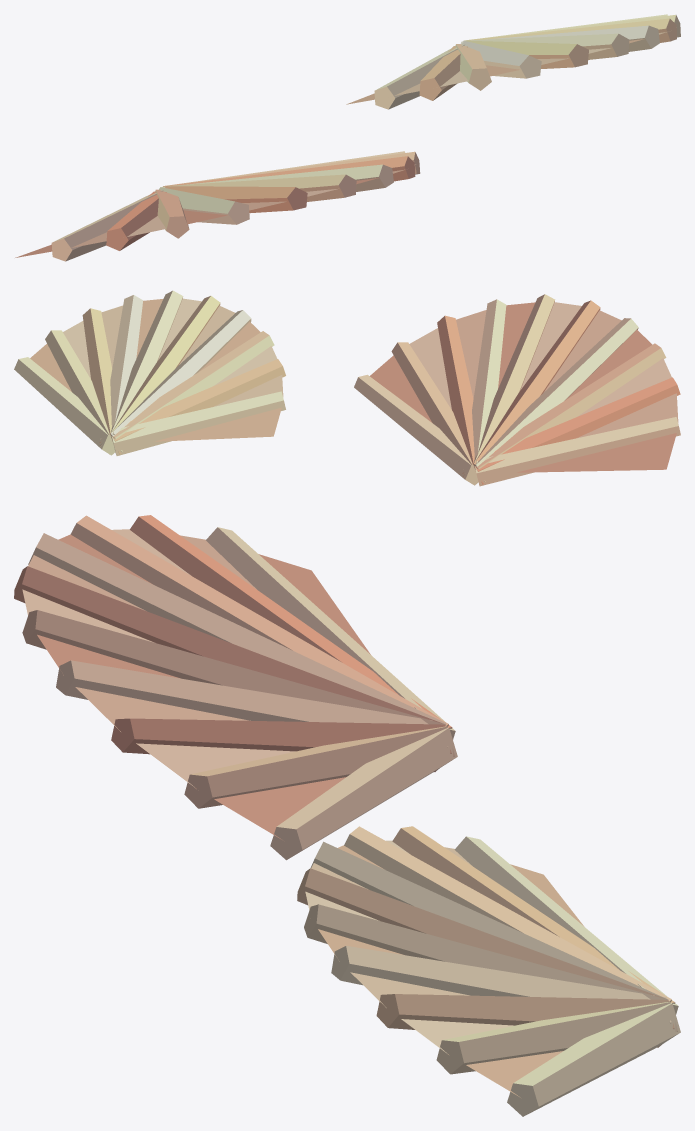
Rendered from find_shell.glb.
The picture shows the model from 3 angles, top to bottom: view 1: azimuth 30°, elevation 25°; view 2: azimuth 150°, elevation 25°; view 3: azimuth 270°, elevation 25°; orthographic projection. The views are drawn at different scales.
Parts seen in each view (by area): view 1: Muschelbucht · Herzmuscheln; view 2: Muschelbucht · Herzmuscheln; view 3: Muschelbucht · Herzmuscheln.
Part boxes in pixels (x1,y1,x2,y2): Muschelbucht · Herzmuscheln: (15,14,680,261); Muschelbucht · Herzmuscheln: (14,290,680,486); Muschelbucht · Herzmuscheln: (14,515,680,1116).
Bounding box in the file's own units: 0.6831 × 0.1179 × 0.3582.
